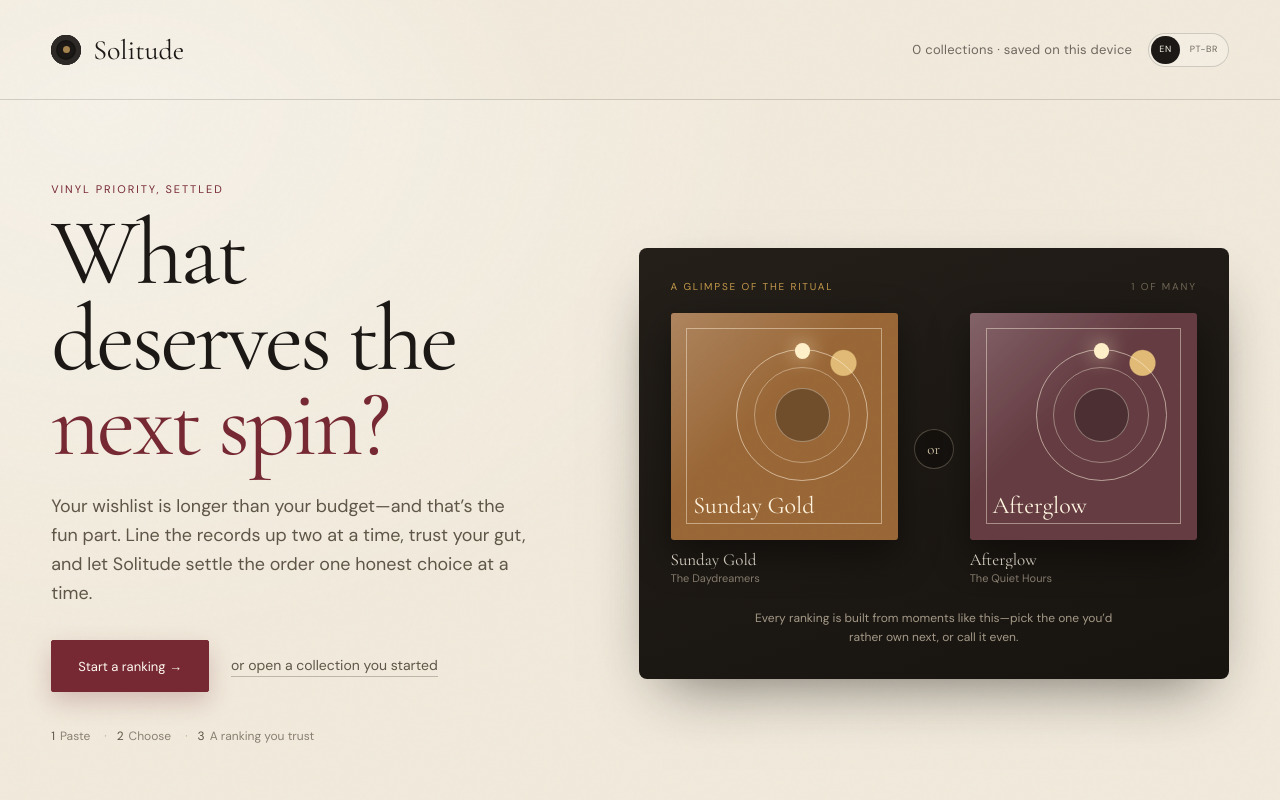
Test case: localized application › switches immediately without losing the current screen or unsaved form input
The image size is (1280, 800).
Click the button "Start a ranking →": (130, 666) [51,640,209,692]
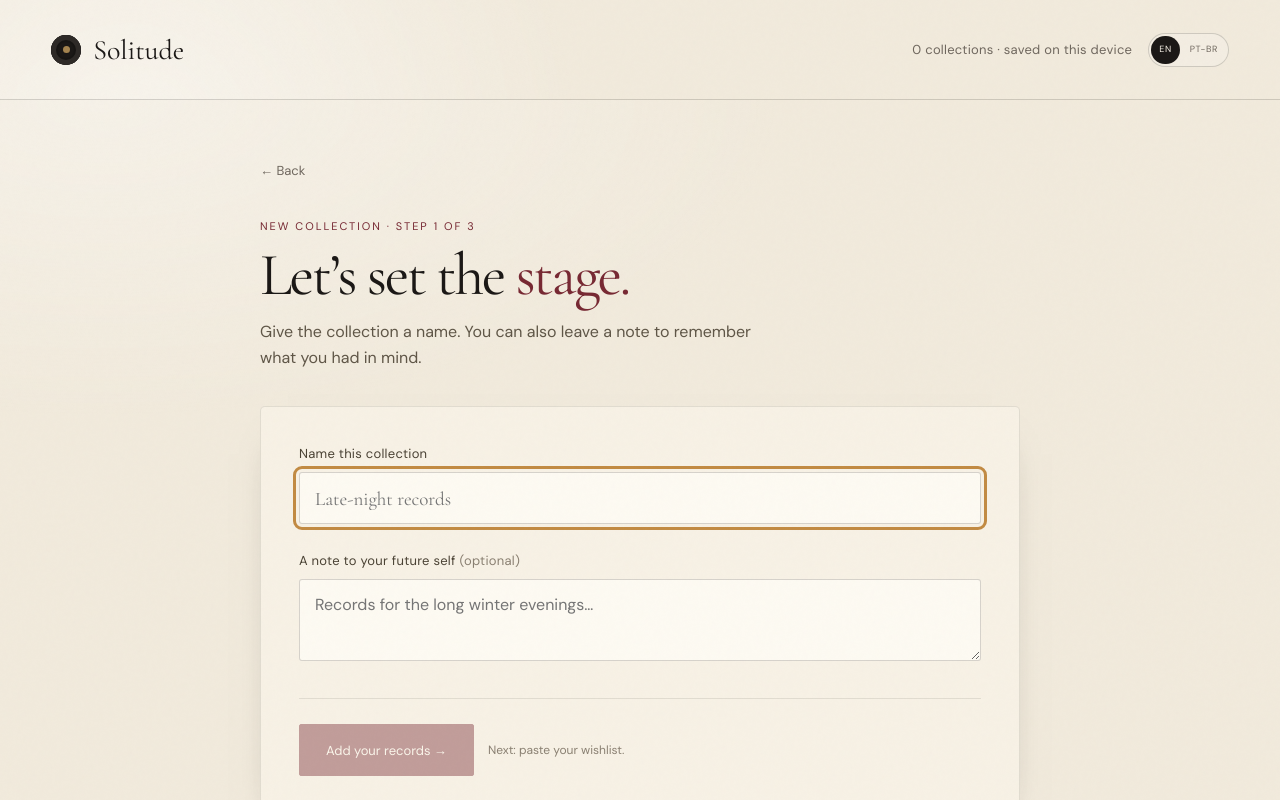
In the field labelled "Name this collection": (640, 498) [299,472,981,524], type "Ainda sem salvar"
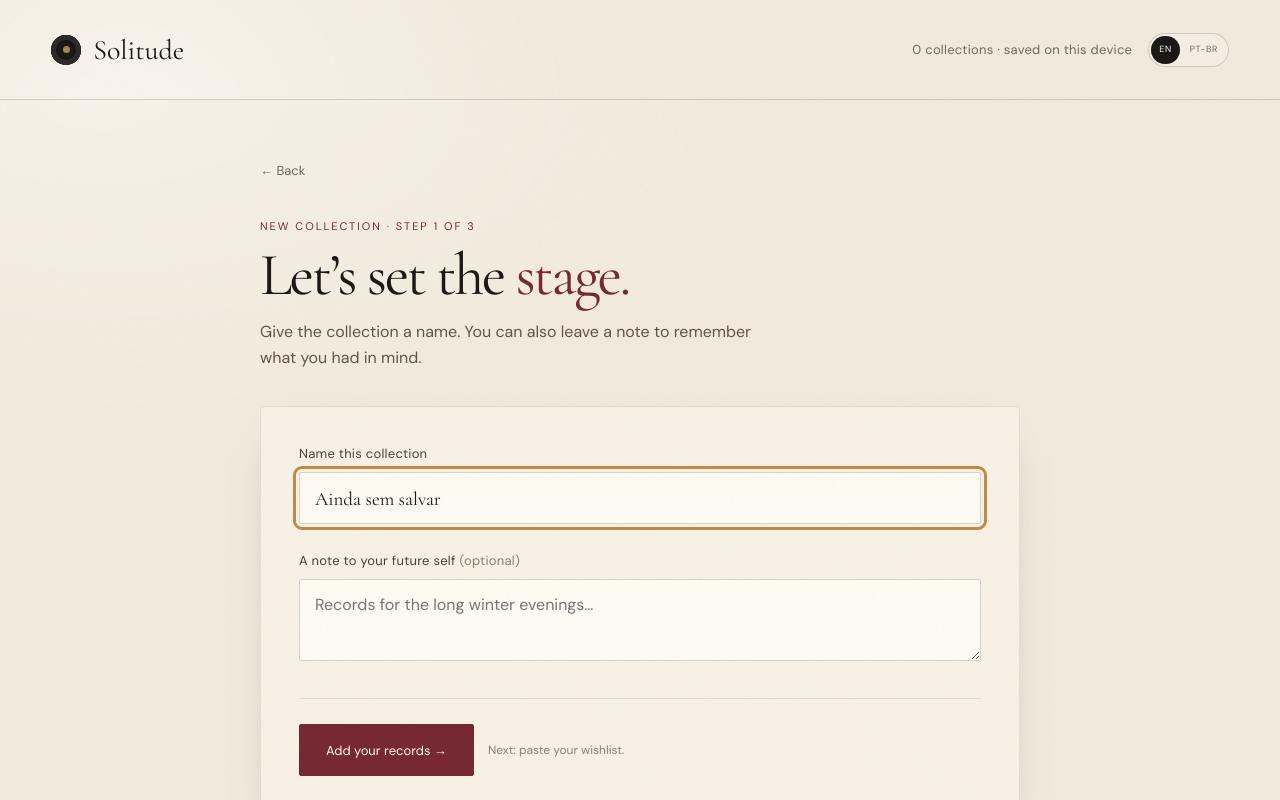
Click the button with aria-label "usar português do brasil": (1204, 50) [1182,36,1226,64]
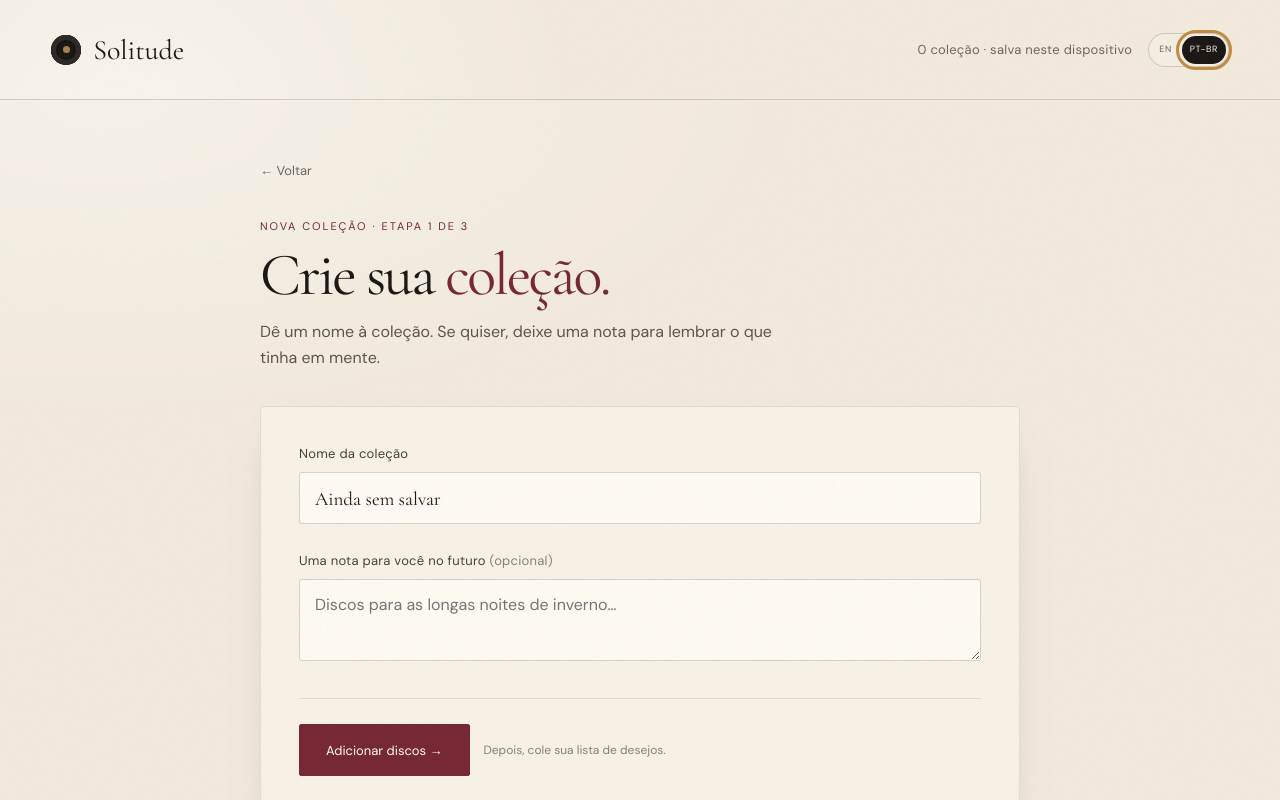
Expected: the heading "Crie sua coleção." is shown, [260,239,609,311]
